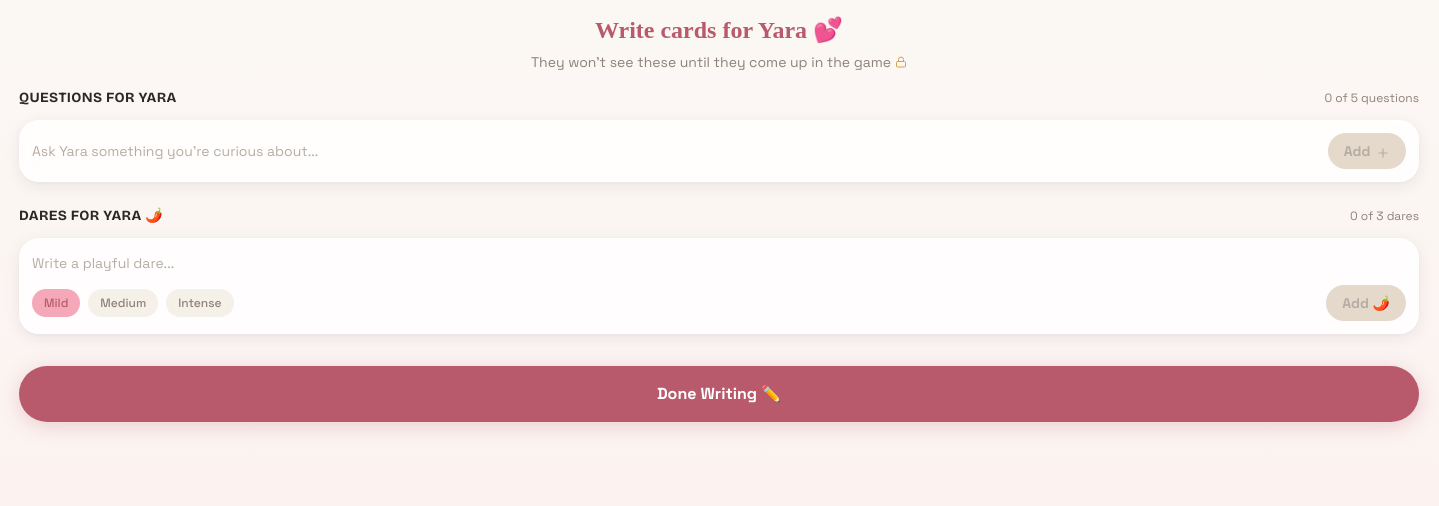
Test case: PartnerAuthoredSetup › removes a question when X is clicked
Type "Remove me" into the field with placeholder "Ask Yara something you're curious about..." at (676, 151), box [32,133,1320,169]
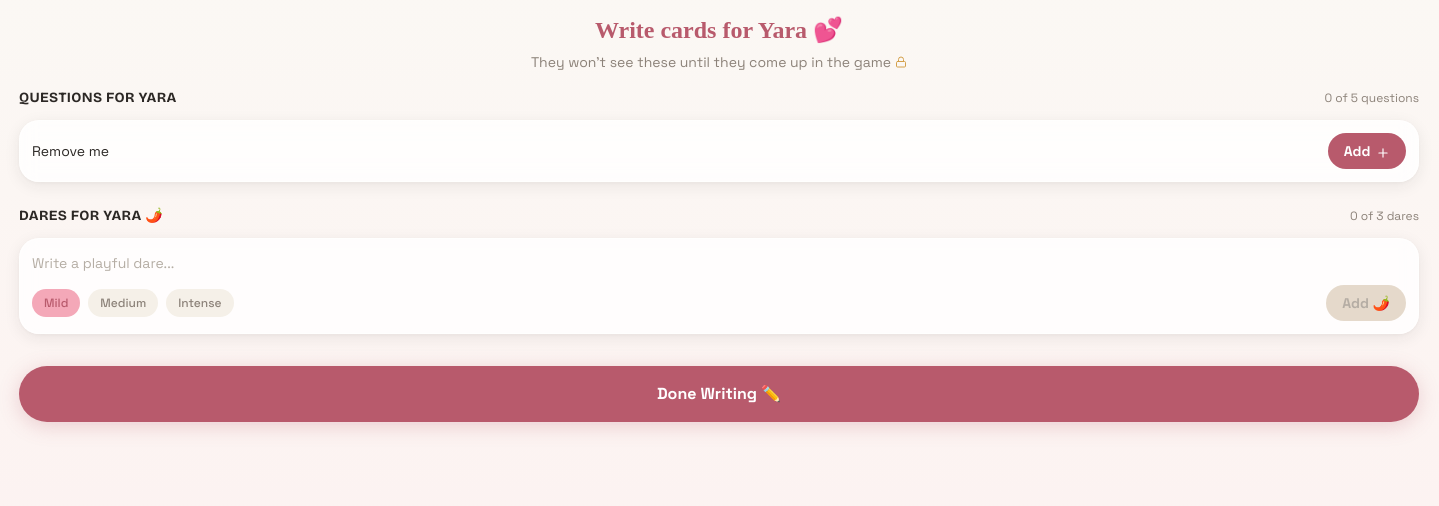
Press Enter in the field with placeholder "Ask Yara something you're curious about...", box [32,133,1320,169]
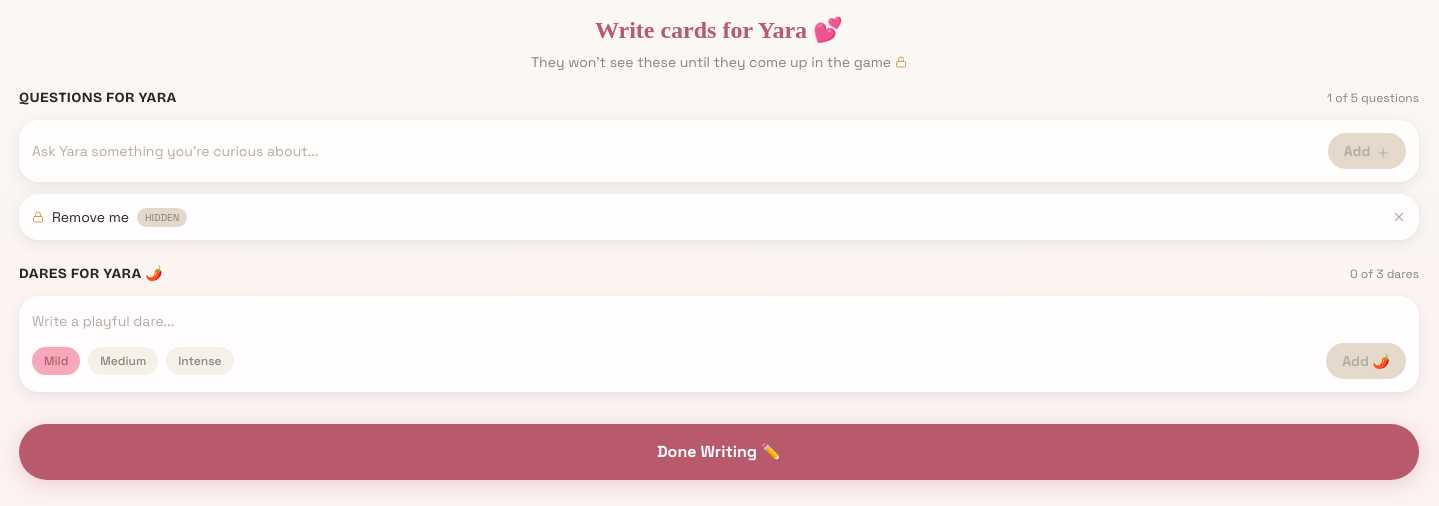
Expected: the text "Remove me" is shown, [52,207,129,227]
# The remove button for the question is the last small button
Click the 2nd button at (1399, 217), box [1392,210,1406,224]
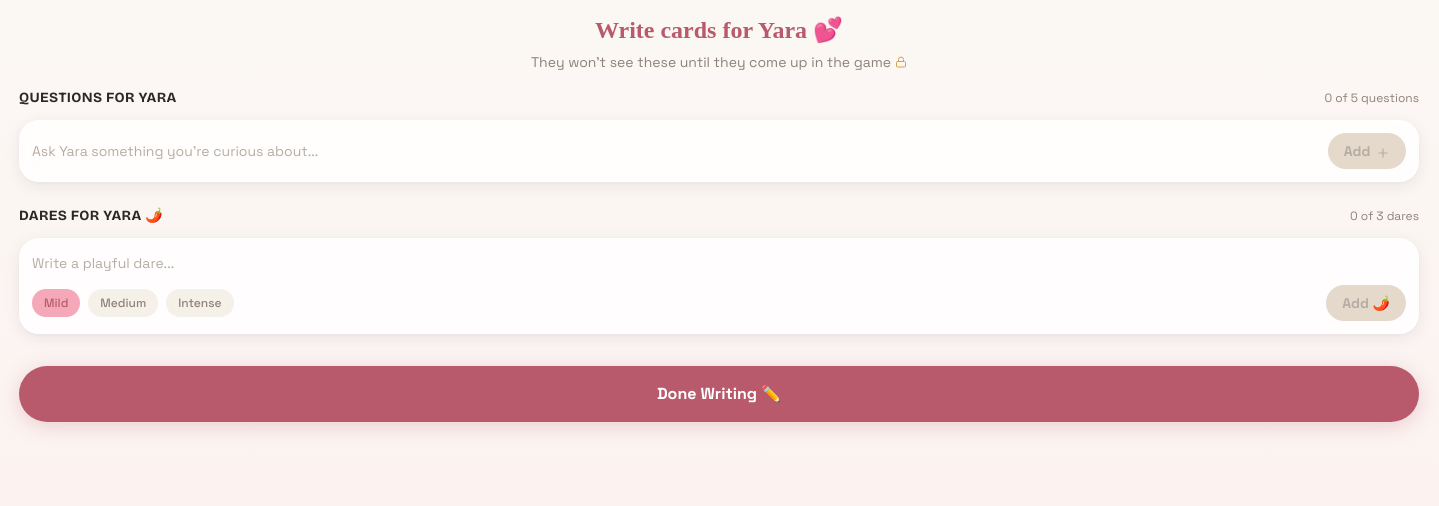
Expected: the text "0 of 5 questions" is shown, [1324,90,1419,106]
